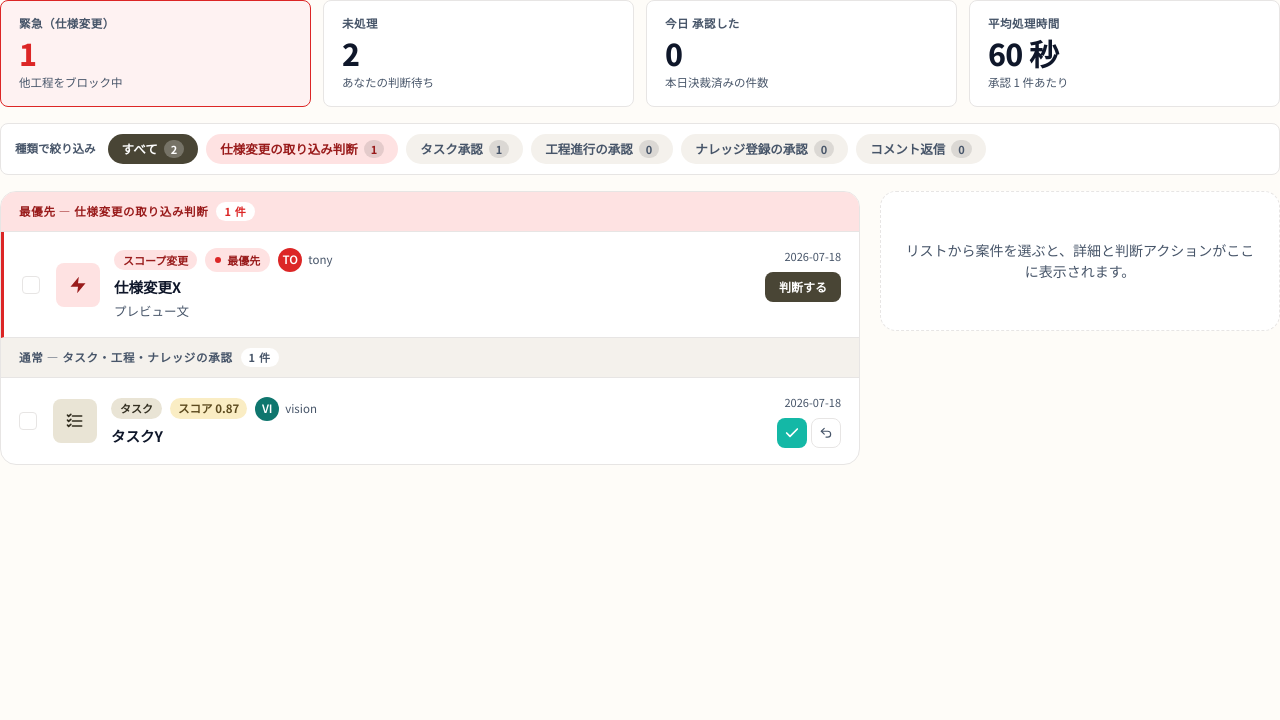
Test case: S-J01 v2: KPI / チップ絞り込み / 詳細ペイン › opens the detail pane with impact and stage chips on select
Step 1. Click the button with aria-label "仕様変更X を判断する" → click(803, 287), box 765,272 -> 841,302
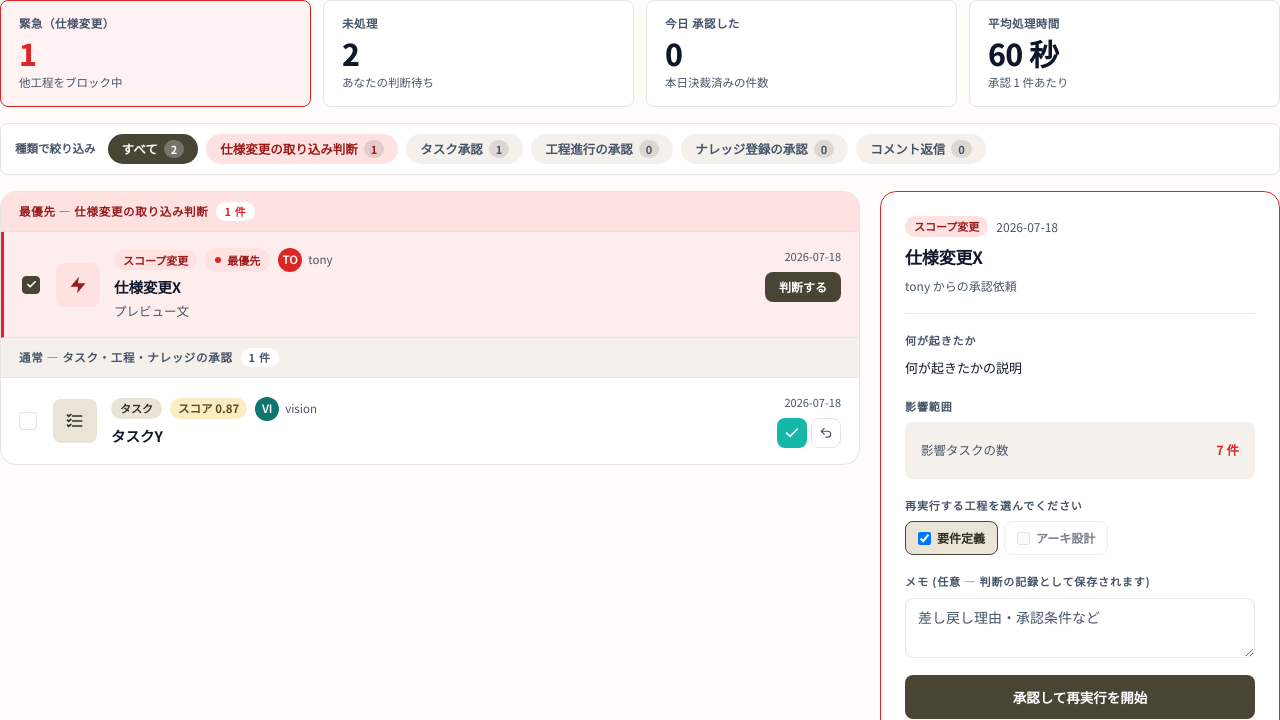
Result: the element named "承認詳細" shows "何が起きたかの説明" at 905,358 -> 1022,377
Result: the element named "承認詳細" shows "影響タスクの数" at 921,440 -> 1008,459
Result: the checkbox labelled "アーキ設計" is disabled at 1017,532 -> 1030,545
